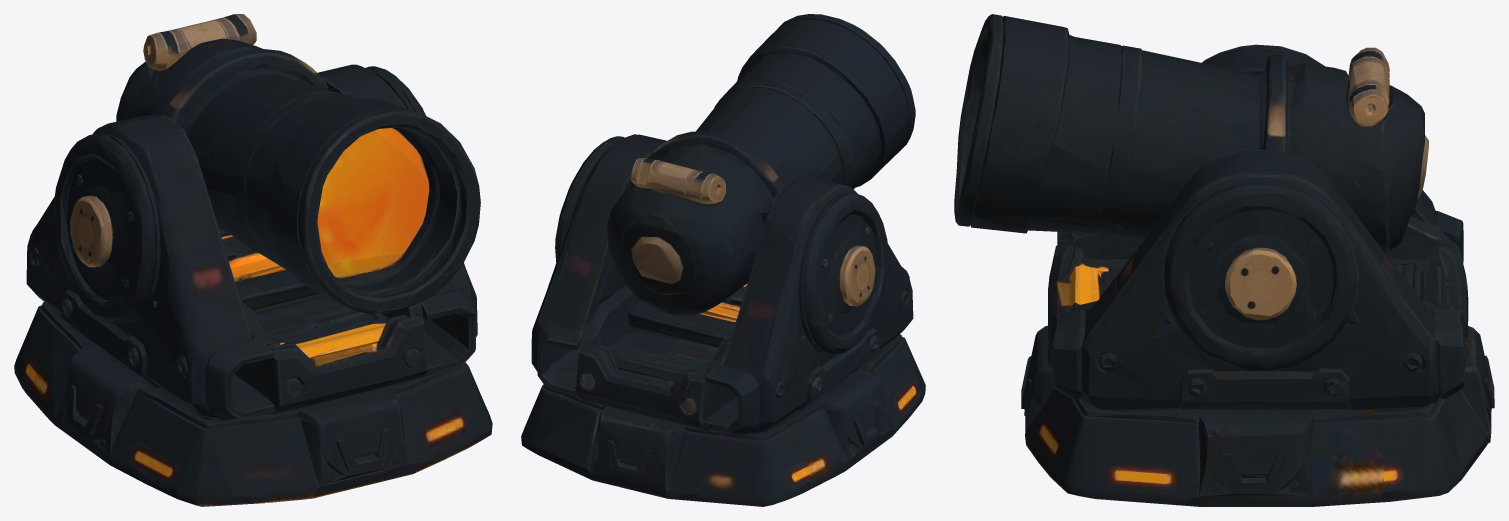
Rendered from nova_mortar.glb.
The picture shows the model from 3 angles, left to right: view 1: azimuth 30°, elevation 25°; view 2: azimuth 150°, elevation 25°; view 3: azimuth 270°, elevation 25°; orthographic projection. The views are drawn at different scales.
Parts seen in each view (by area): view 1: model; view 2: model; view 3: model.
Part boxes in pixels (left/top/right/bottom): model: left=14, top=14, right=492, bottom=506; model: left=521, top=14, right=925, bottom=506; model: left=954, top=14, right=1494, bottom=506.
Size of the model in its own units: 1 by 1.05 by 1.29.
2 materials, 1 textured.
